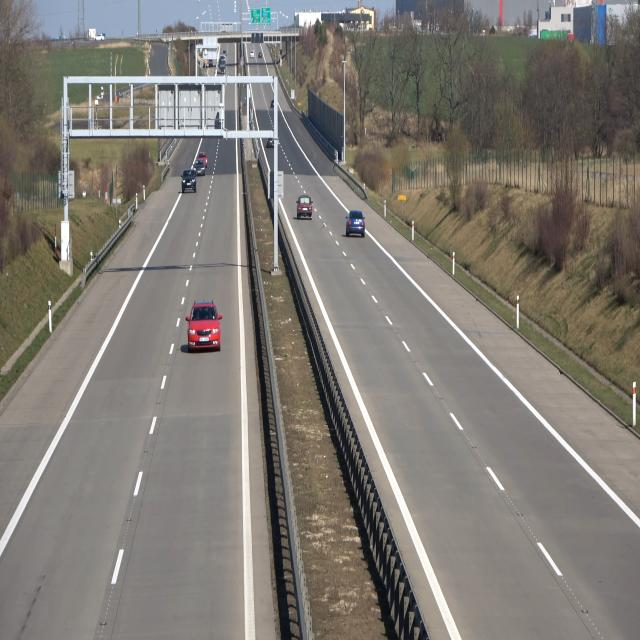Car: (185, 297, 223, 353), (345, 208, 367, 239), (296, 194, 314, 222), (182, 168, 198, 194), (192, 160, 205, 176)
